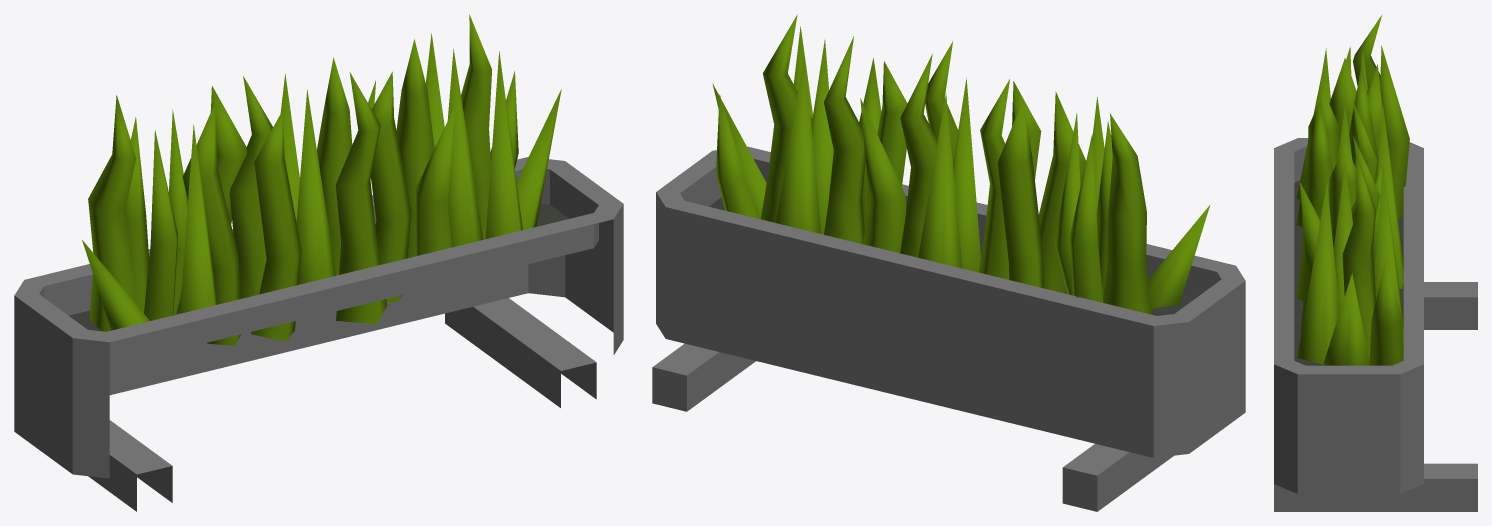
Rendered from pot_plant_01.fbx.
3 views of the same model, side by side, from view 1: azimuth 30°, elevation 25°; view 2: azimuth 150°, elevation 25°; view 3: azimuth 270°, elevation 25° (orthographic). The views are drawn at different scales.
Parts seen in each view (by area): view 1: pot_plant_01; view 2: pot_plant_01; view 3: pot_plant_01.
Part boxes in pixels (<box>): pot_plant_01: <box>14,14,623,511</box>; pot_plant_01: <box>652,14,1245,511</box>; pot_plant_01: <box>1274,14,1477,511</box>.
Size of the model in its own units: 3.3 by 2.13 by 1.2.
